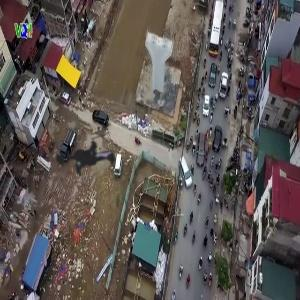drone: (30, 104, 149, 223)
